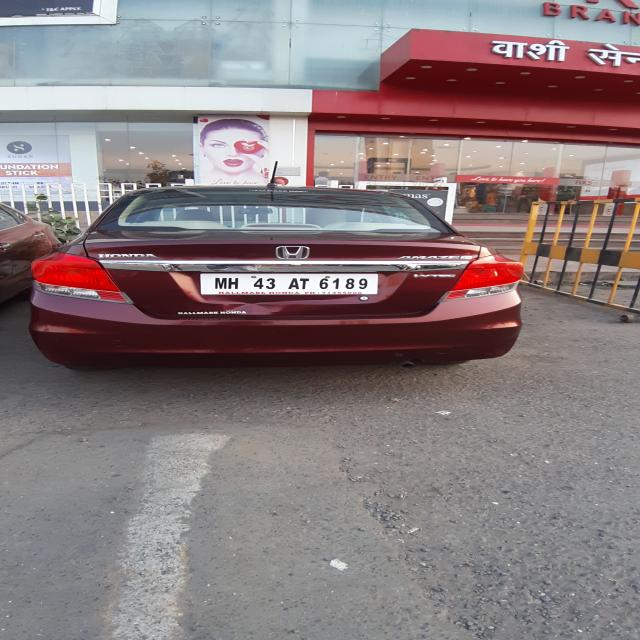Number-Plate: (200, 274, 376, 293)
